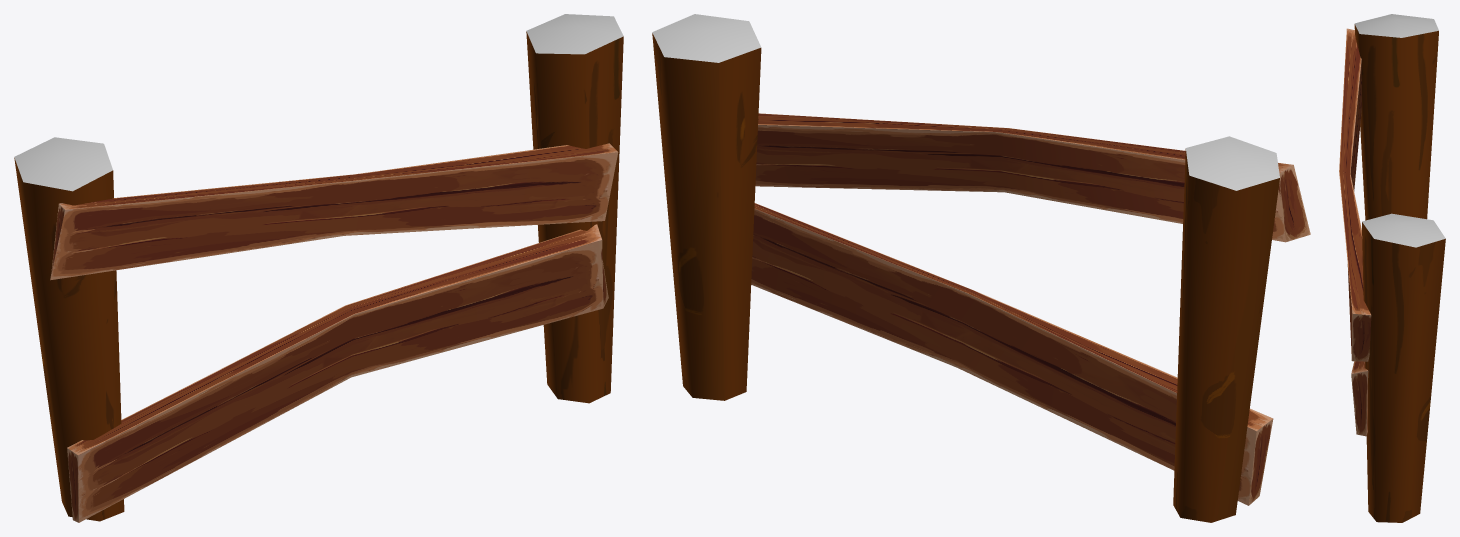
Rendered from SM_PROP_fence_v03_03.fbx.
The picture shows the model from 3 angles, left to right: view 1: azimuth 30°, elevation 25°; view 2: azimuth 150°, elevation 25°; view 3: azimuth 270°, elevation 25°; orthographic projection. The views are drawn at different scales.
Parts seen in each view (by area): view 1: SM_PROP_fence_v03_03; view 2: SM_PROP_fence_v03_03; view 3: SM_PROP_fence_v03_03.
Boxes of the visible parts, left/top/right/bottom form: SM_PROP_fence_v03_03: left=14, top=14, right=623, bottom=522; SM_PROP_fence_v03_03: left=652, top=14, right=1310, bottom=522; SM_PROP_fence_v03_03: left=1339, top=14, right=1445, bottom=522.
Size of the model in its own units: 207 by 117 by 38.84.
